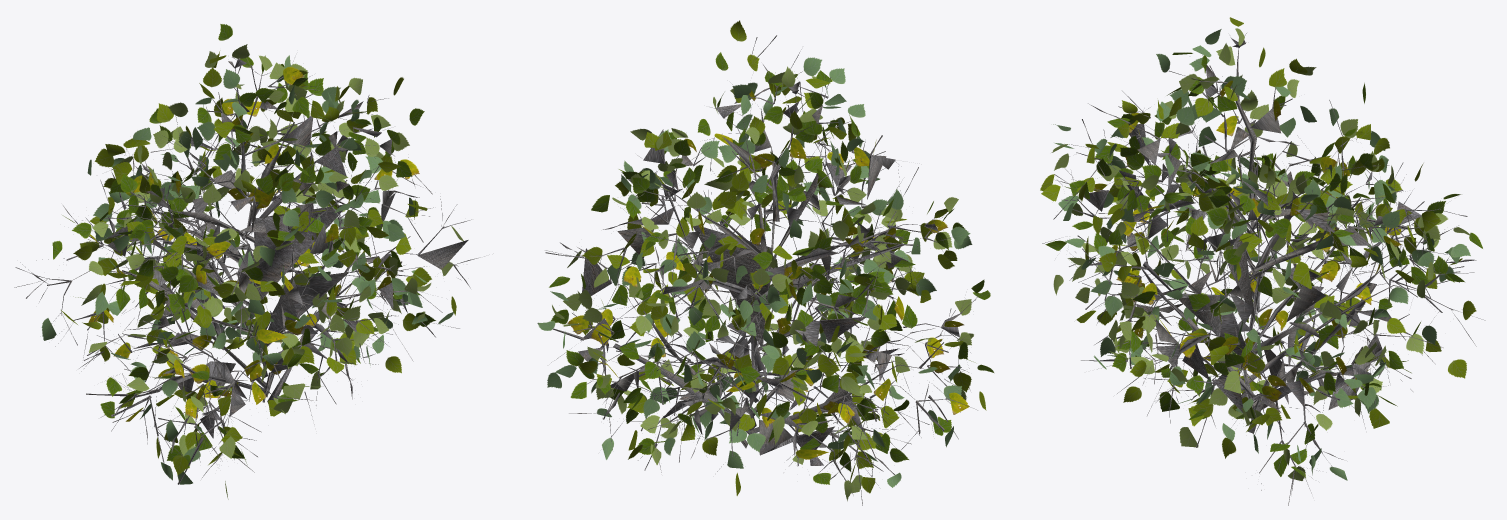
File: bush-mid.glb
The picture shows the model from 3 angles, left to right: view 1: azimuth 30°, elevation 25°; view 2: azimuth 150°, elevation 25°; view 3: azimuth 270°, elevation 25°; orthographic projection. The views are drawn at different scales.
Visible parts, largest first — view 1: Bush 3 (smaller).003, Bush 3 (smaller).004, Bush 3 (smaller).005, Bush 3 (smaller).001, Bush 3 (smaller), Bush 3 (smaller).002; view 2: Bush 3 (smaller).003, Bush 3 (smaller).001, Bush 3 (smaller), Bush 3 (smaller).004, Bush 3 (smaller).005, Bush 3 (smaller).002; view 3: Bush 3 (smaller).003, Bush 3 (smaller).004, Bush 3 (smaller).001, Bush 3 (smaller), Bush 3 (smaller).005, Bush 3 (smaller).002.
Part boxes in pixels (box(x1,y1,x2,y2)): Bush 3 (smaller).003: box(14, 57, 484, 484); Bush 3 (smaller).004: box(61, 51, 456, 475); Bush 3 (smaller).005: box(62, 44, 463, 499); Bush 3 (smaller).001: box(52, 24, 435, 468); Bush 3 (smaller): box(41, 55, 454, 484); Bush 3 (smaller).002: box(89, 67, 419, 421); Bush 3 (smaller).003: box(537, 35, 978, 505); Bush 3 (smaller).001: box(549, 52, 993, 484); Bush 3 (smaller): box(538, 57, 972, 487); Bush 3 (smaller).004: box(577, 20, 986, 495); Bush 3 (smaller).005: box(552, 66, 975, 501); Bush 3 (smaller).002: box(567, 90, 969, 459); Bush 3 (smaller).003: box(1042, 33, 1485, 505); Bush 3 (smaller).004: box(1040, 17, 1476, 458); Bush 3 (smaller).001: box(1045, 52, 1482, 477); Bush 3 (smaller): box(1053, 29, 1470, 480); Bush 3 (smaller).005: box(1051, 28, 1469, 480); Bush 3 (smaller).002: box(1093, 80, 1401, 401).
Size of the model in its own units: 1.07 by 1.07 by 0.9994.
6 materials, 6 textured.
